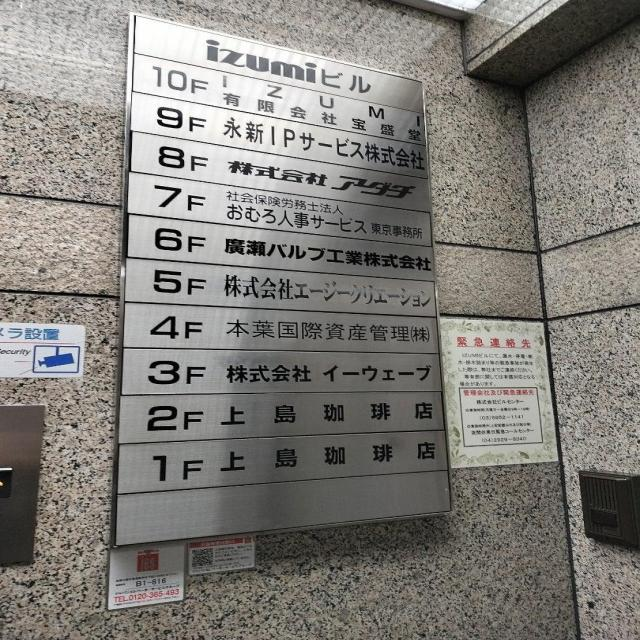building: (198, 32, 377, 100)
facility: (220, 72, 423, 143), (221, 112, 426, 175), (223, 188, 426, 243), (225, 154, 421, 205), (220, 232, 433, 277), (221, 271, 432, 312), (216, 439, 440, 477), (216, 398, 437, 432), (222, 316, 433, 347), (223, 361, 437, 385)
floor: (147, 60, 214, 101), (141, 400, 210, 436), (144, 449, 211, 484), (149, 180, 212, 217), (146, 310, 214, 344), (149, 221, 211, 258), (153, 141, 213, 179), (149, 264, 211, 299), (152, 102, 210, 139), (144, 355, 209, 388)
